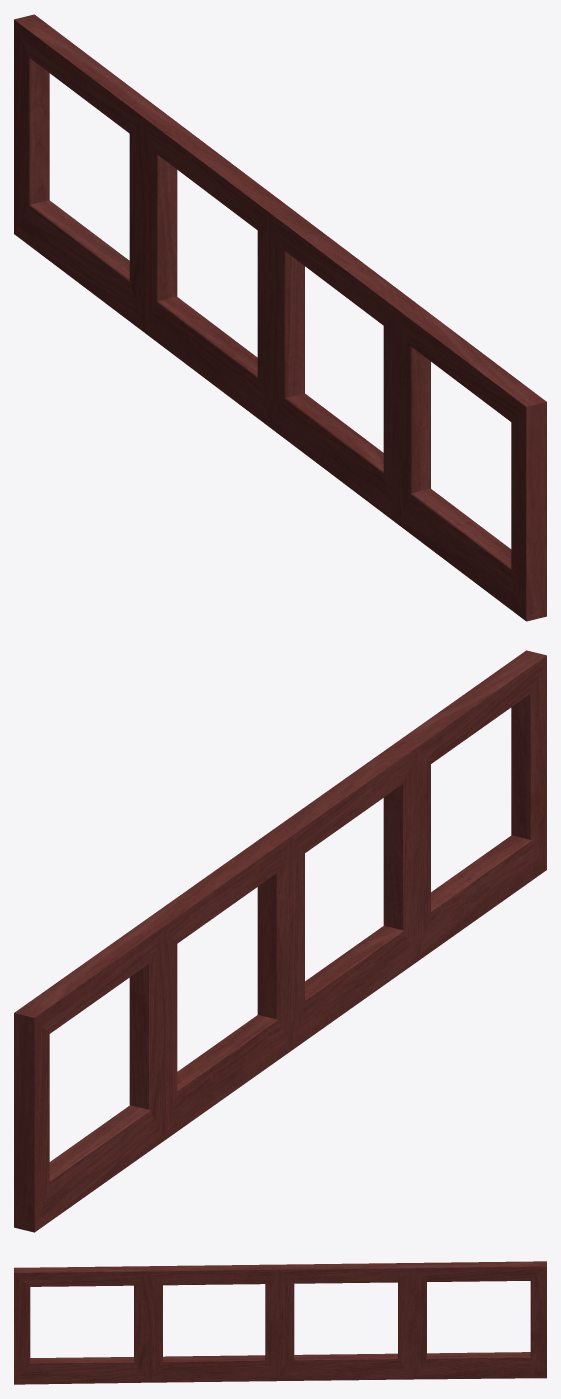
Rendered from SM_GJJ_2F_Windowframe01A.fbx.
3 views of the same model, one above another, from view 1: azimuth 30°, elevation 25°; view 2: azimuth 150°, elevation 25°; view 3: azimuth 270°, elevation 25° (orthographic). The views are drawn at different scales.
Parts seen in each view (by area): view 1: SM_GJJ_2F_Windowframe01A; view 2: SM_GJJ_2F_Windowframe01A; view 3: SM_GJJ_2F_Windowframe01A.
Part boxes in pixels (x1,y1,x2,y2): SM_GJJ_2F_Windowframe01A: (14,14,546,621); SM_GJJ_2F_Windowframe01A: (14,650,546,1232); SM_GJJ_2F_Windowframe01A: (14,1261,546,1384).
Size of the model in its own units: 4.53 by 195 by 47.73.
1 material, 1 textured.
